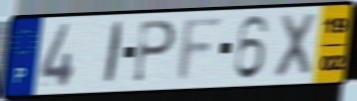4: (38, 21, 77, 90)
6: (232, 13, 271, 82)
F: (173, 14, 228, 85)
I: (101, 19, 127, 87)
P: (131, 19, 179, 85)
X: (271, 10, 320, 81)
